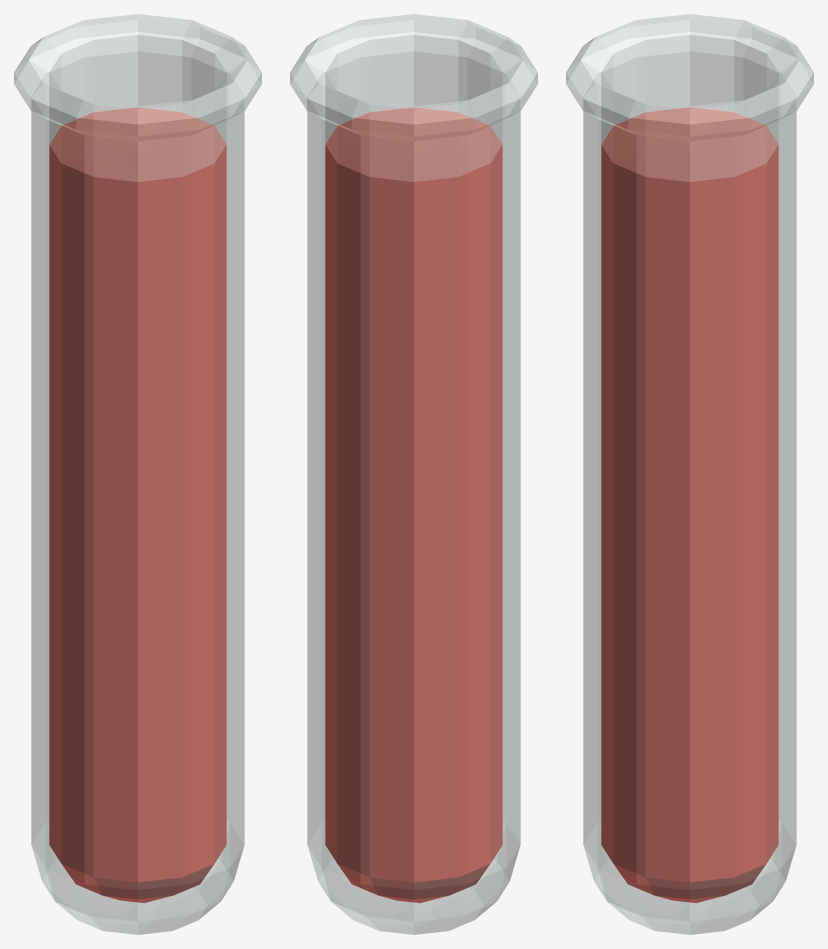
Rendered from test_tube_red.fbx.
3 views of the same model, side by side, from view 1: azimuth 30°, elevation 25°; view 2: azimuth 150°, elevation 25°; view 3: azimuth 270°, elevation 25° (orthographic).
Visible parts, largest first — view 1: group396116694; view 2: group396116694; view 3: group396116694.
Part boxes in pixels (left/top/right/bottom): group396116694: left=14, top=14, right=261, bottom=934; group396116694: left=290, top=14, right=537, bottom=934; group396116694: left=566, top=14, right=813, bottom=934.
Size of the model in its own units: 18.6 by 71 by 18.6.
